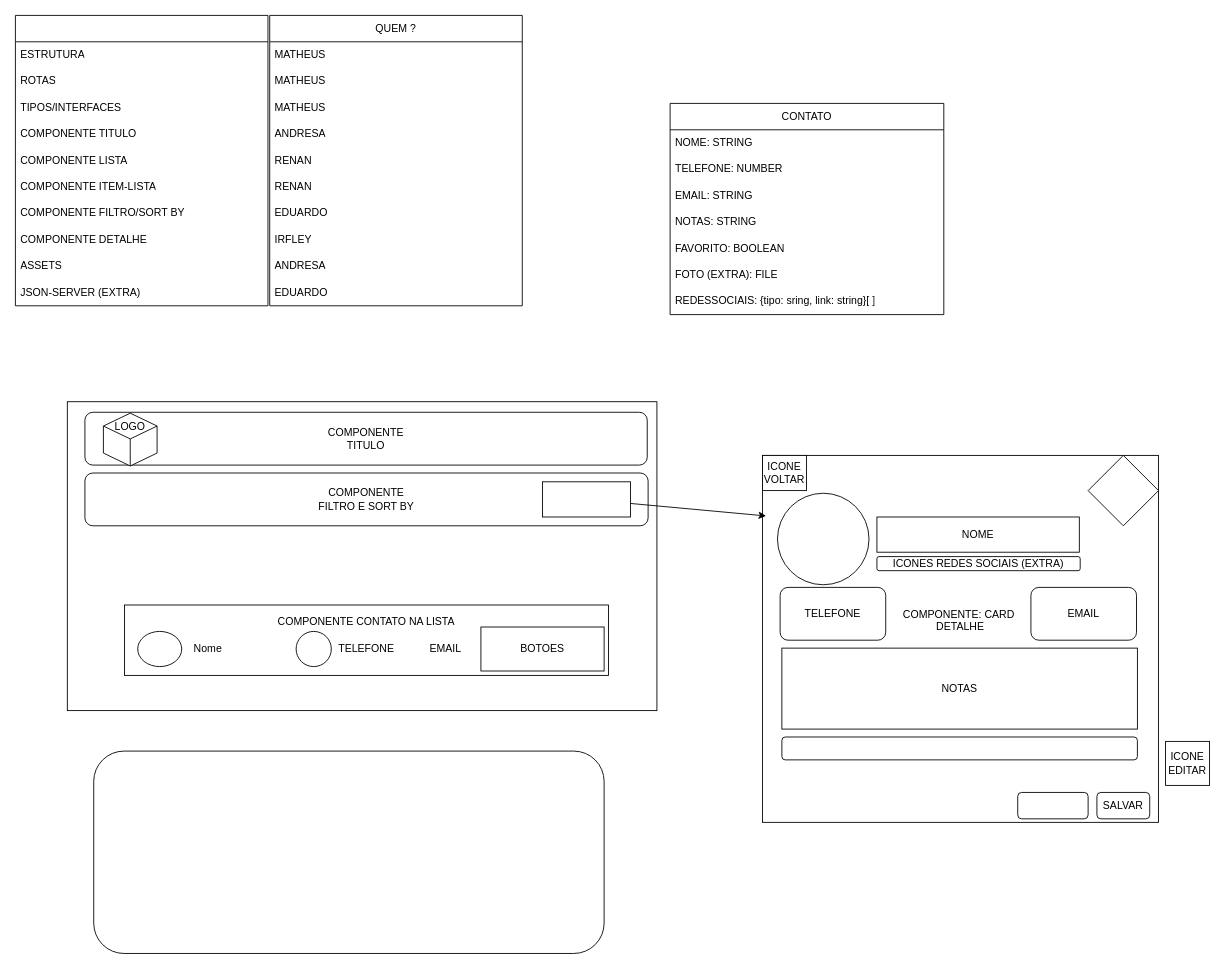
This 1225x969 diagram has some shape labels left out. The shapes that lost their labels are listed below. From the top down, each one's box as (x1, y1, x2, y2) in pixels, then its label:
(15, 15, 268, 306): TAREFAS
(542, 481, 631, 517): ADD CONTACT
(1087, 455, 1159, 526): ICON FAVORITO
(66, 401, 657, 711): COMPONENTE LIST
(777, 492, 869, 585): AVATAR UPLOAD(EXTRA)
(781, 736, 1137, 760): LINKS REDE SOCIAL (EXTRA) [SOMENTE EDIÇÃO]
(1017, 792, 1088, 819): CANCELAR
(93, 750, 604, 953): ASSETS FOTOS DOS CONTATOS ICONE WHATSAPP BANDEIRAS (EXTRA)
